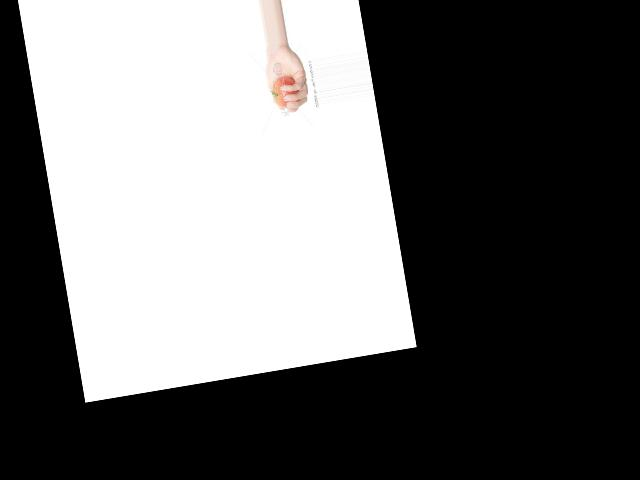tomato: (270, 76, 300, 109)
